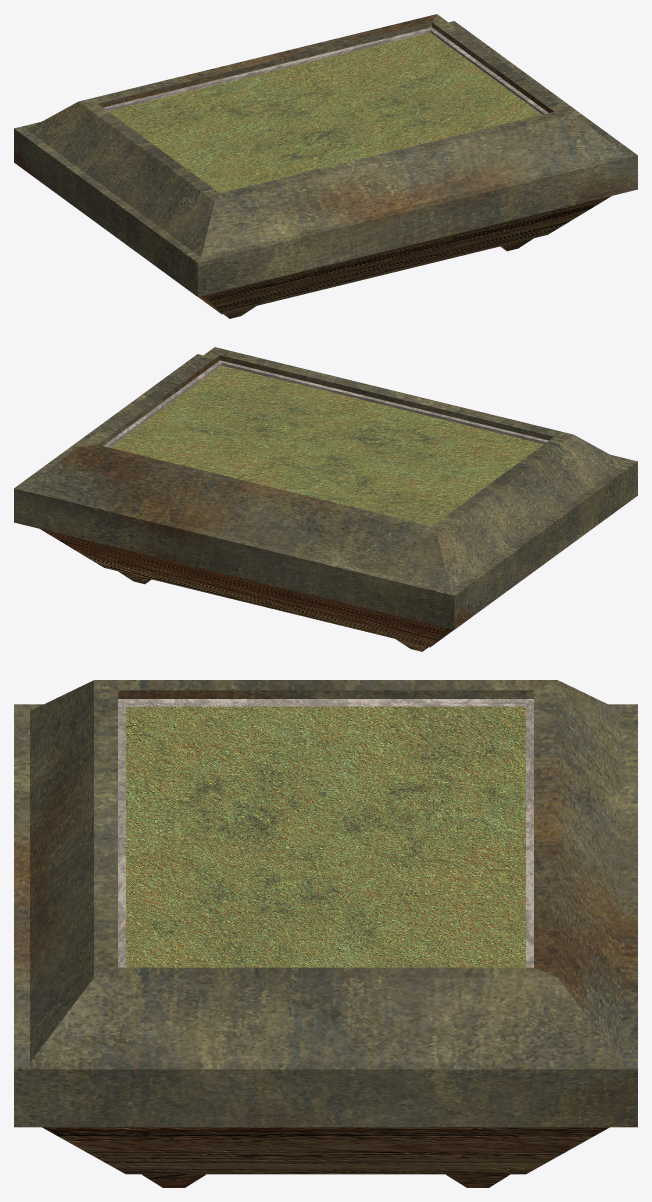
Rendered from table.glb.
3 views of the same model, one above another, from view 1: azimuth 30°, elevation 25°; view 2: azimuth 150°, elevation 25°; view 3: azimuth 270°, elevation 25° (orthographic). The views are drawn at different scales.
Parts seen in each view (by area): view 1: sides, top, bottom, top rim; view 2: sides, top, bottom, top rim; view 3: sides, top, bottom, top rim.
Boxes of the visible parts, x1=… form: sides: x1=14, y1=14, x2=637, y2=296; top: x1=108, y1=32, x2=541, y2=193; bottom: x1=198, y1=196, x2=611, y2=318; top rim: x1=103, y1=27, x2=548, y2=114; sides: x1=14, y1=347, x2=637, y2=629; top: x1=110, y1=365, x2=543, y2=526; bottom: x1=40, y1=529, x2=453, y2=651; top rim: x1=103, y1=360, x2=548, y2=447; sides: x1=14, y1=680, x2=637, y2=1127; top: x1=126, y1=706, x2=525, y2=967; bottom: x1=42, y1=1127, x2=609, y2=1187; top rim: x1=118, y1=699, x2=533, y2=967.
Bounding box in the file's own units: 10.8 × 3.3 × 7.8.
4 materials, 4 textured.
